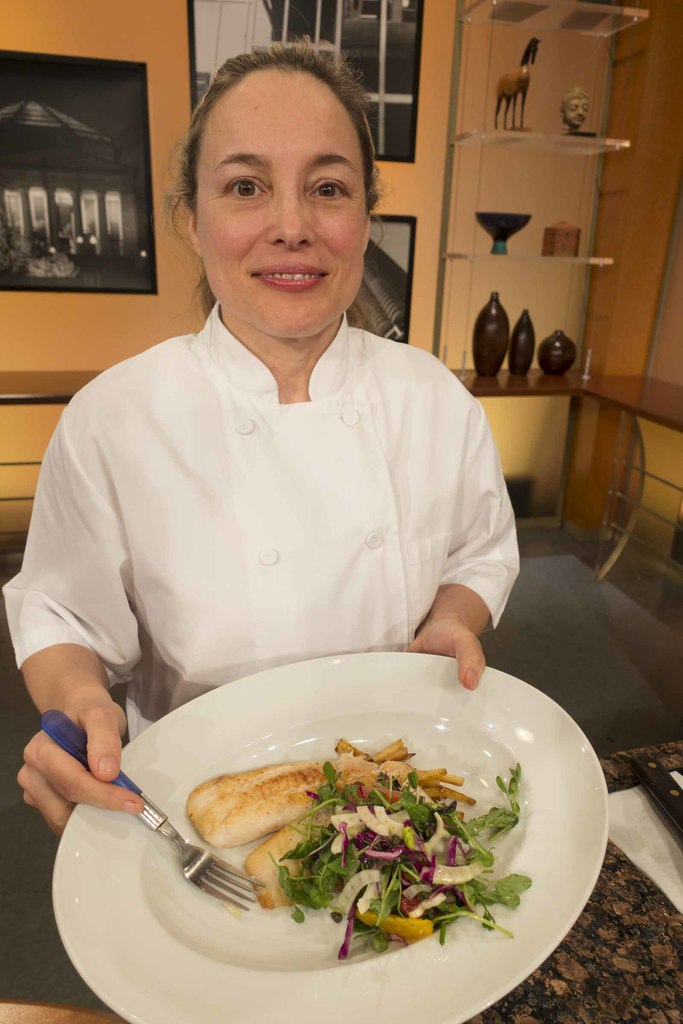salad: (269, 756, 539, 957)
